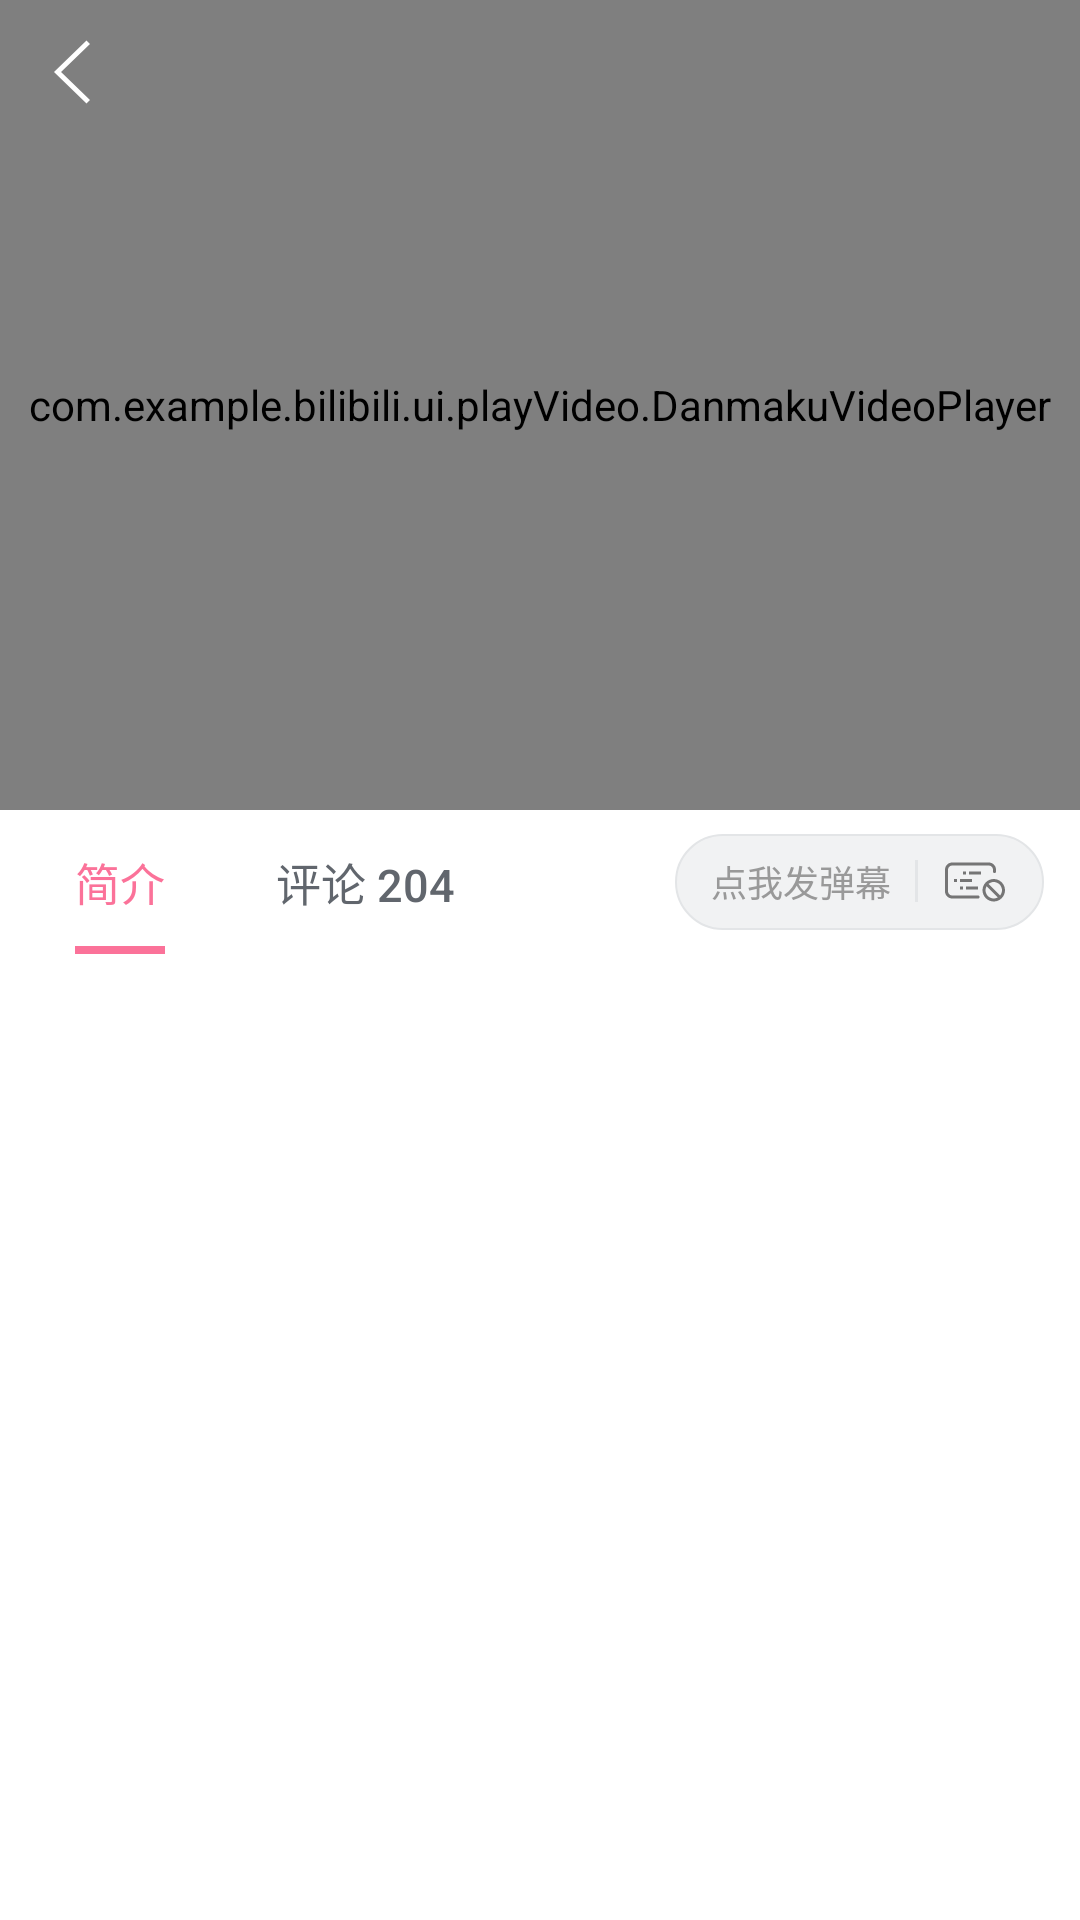

Icons on this 1080 x 1920 Android screen, each with its box as box(x1, y1, x2, y2):
back arrow: box(54, 40, 90, 104)
danmu switch: box(945, 862, 1005, 902)
